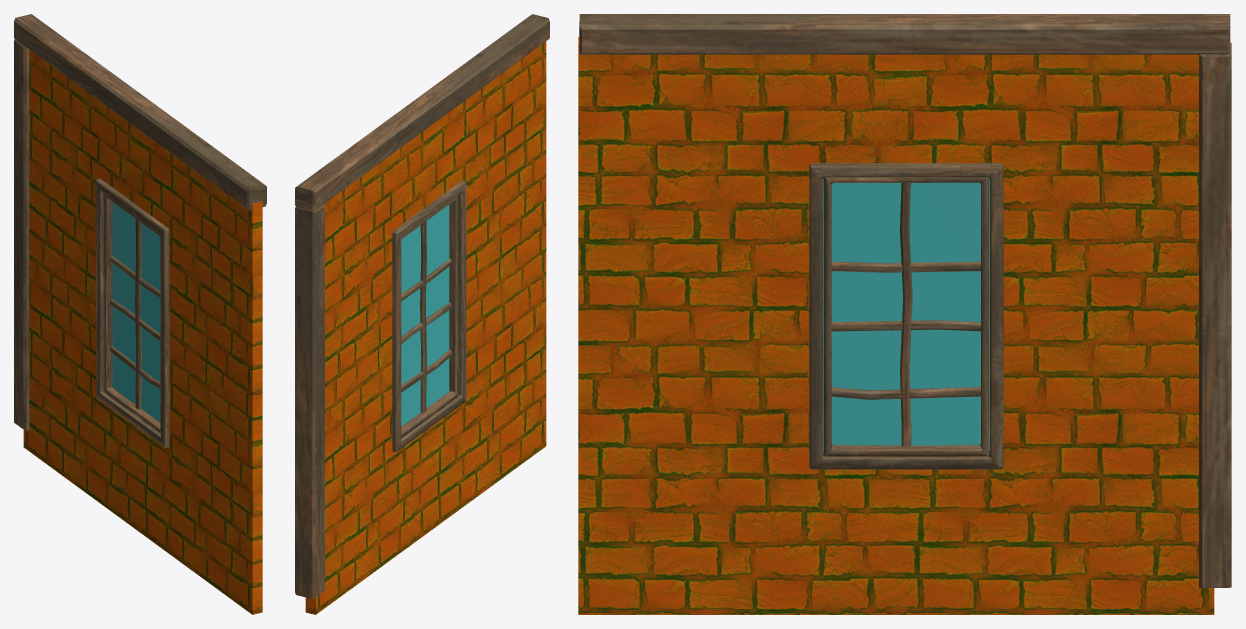
File: SM_wall_04.fbx
3 views of the same model, side by side, from view 1: azimuth 30°, elevation 25°; view 2: azimuth 150°, elevation 25°; view 3: azimuth 270°, elevation 25° (orthographic). The views are drawn at different scales.
Parts seen in each view (by area): view 1: SM_wall_04_LOD0; view 2: SM_wall_04_LOD0; view 3: SM_wall_04_LOD0.
Part boxes in pixels (x1,y1,x2,y2): SM_wall_04_LOD0: [14, 14, 266, 614]; SM_wall_04_LOD0: [295, 14, 549, 614]; SM_wall_04_LOD0: [578, 14, 1231, 614].
Size of the model in its own units: 20 by 400 by 400.
